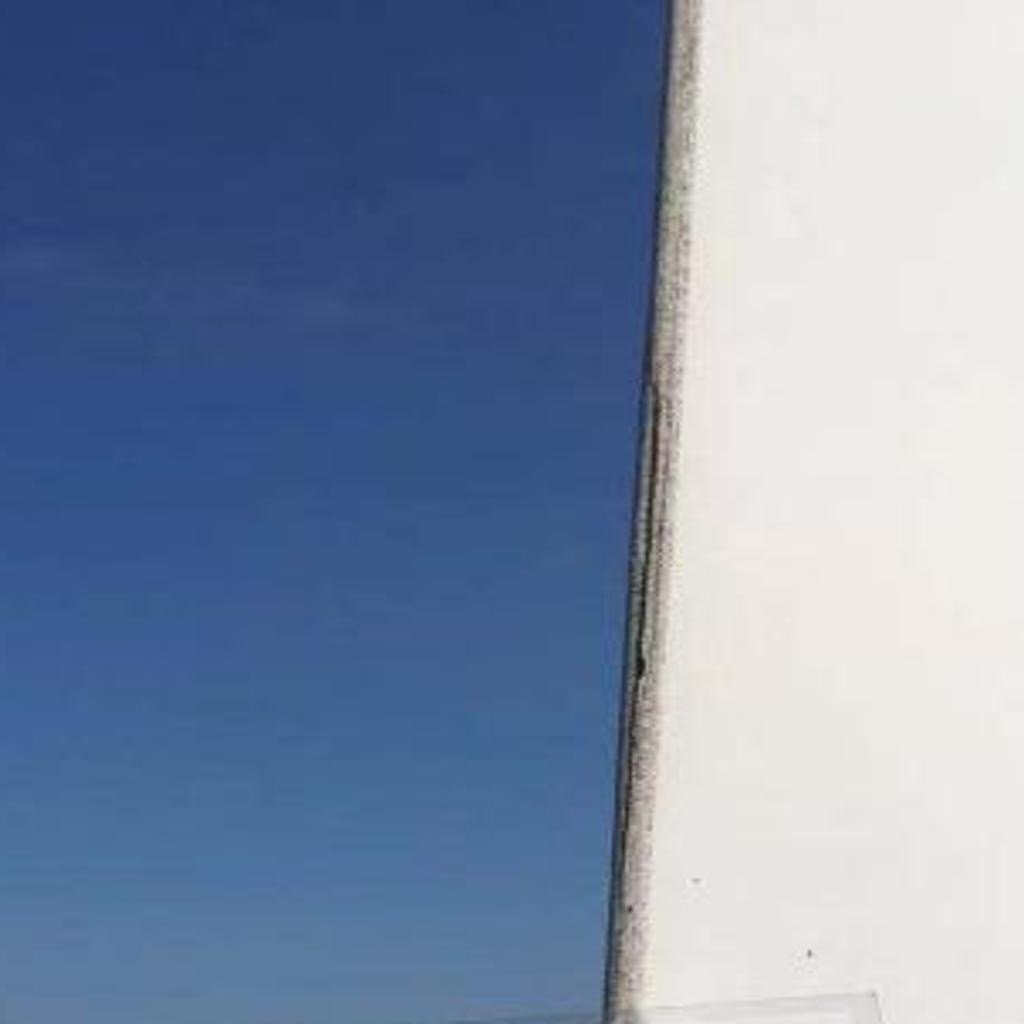craze: (614, 406, 661, 885)
